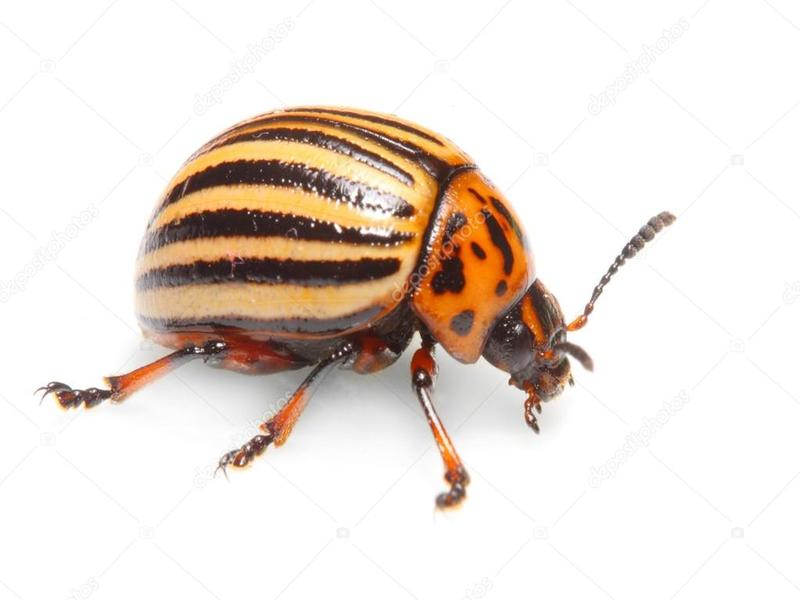hrosc: (122, 94, 612, 505)
